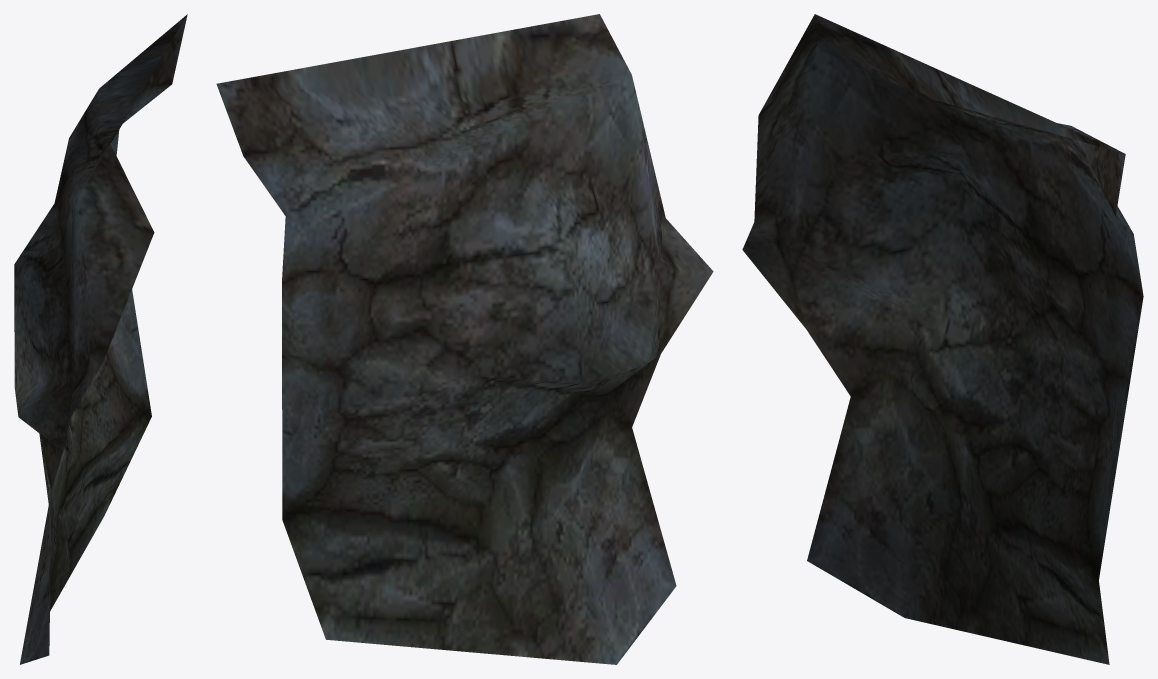
File: S_Rock_Yellow034_H38.FBX
3 renders of one model, left to right at view 1: azimuth 30°, elevation 25°; view 2: azimuth 150°, elevation 25°; view 3: azimuth 270°, elevation 25°, orthographic. The views are drawn at different scales.
Visible parts, largest first — view 1: S_Rock_Yellow034_H38; view 2: S_Rock_Yellow034_H38; view 3: S_Rock_Yellow034_H38.
Part boxes in pixels (bbox=[...]): S_Rock_Yellow034_H38: bbox=[14, 14, 187, 664]; S_Rock_Yellow034_H38: bbox=[216, 14, 713, 664]; S_Rock_Yellow034_H38: bbox=[742, 14, 1143, 664].
Size of the model in its own units: 536 by 565 by 986.
1 material, 1 textured.
